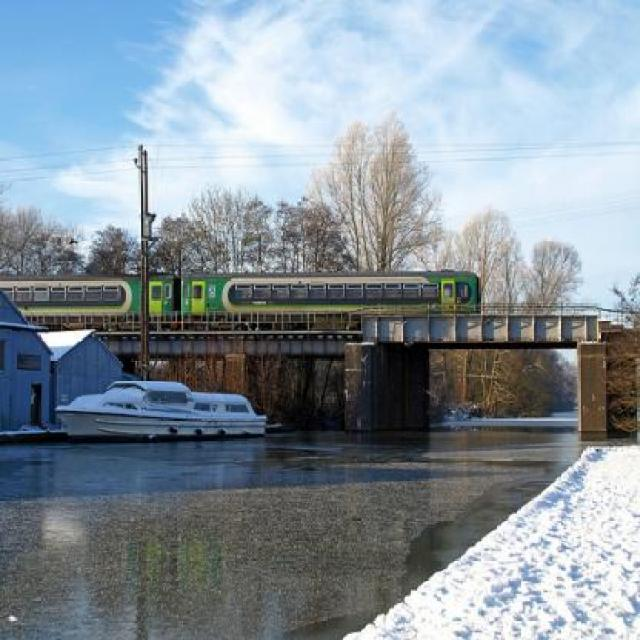ship: (58, 368, 279, 450)
